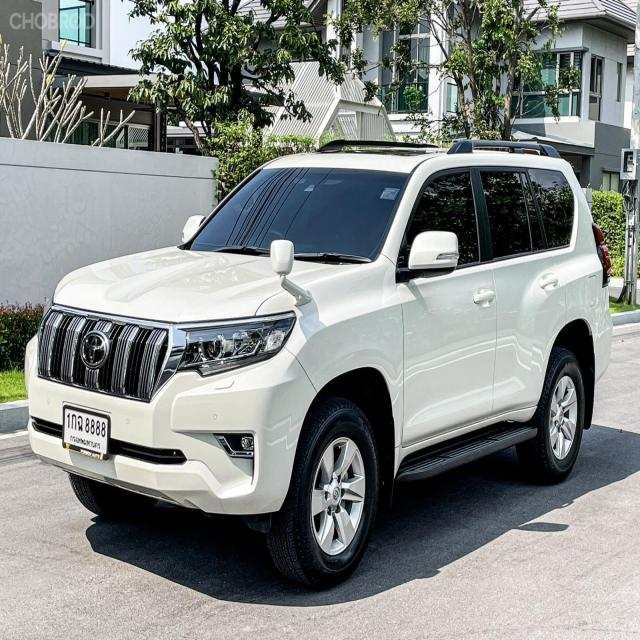license_plate: (62, 402, 111, 461)
